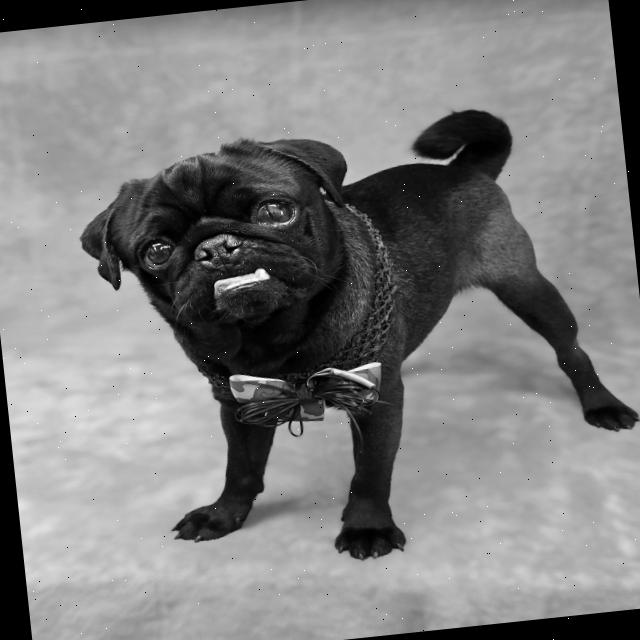pug_dog: (63, 108, 377, 368)
